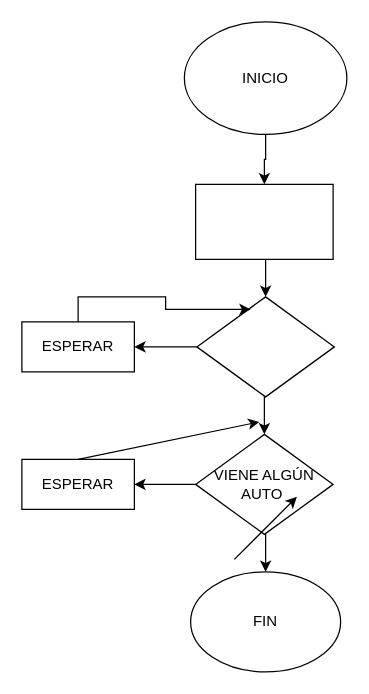
Image size: 369x694. Some labels were removed from this diagram. Each missing label, with the centre of its shape:
"DIRIGIRSE AL SEMAFORO AL PASO PEATONAL" goes at pixel 263 221.
"ESTA EN COLOR ROJO PARA PASAR?" goes at pixel 265 346.
